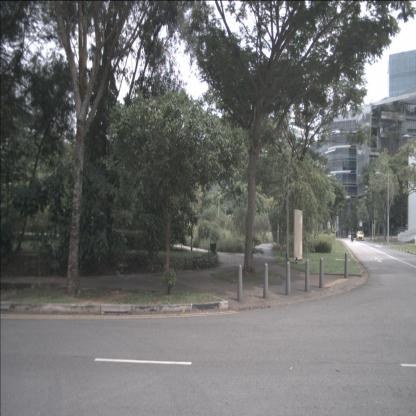vehicle-car: (356, 231, 364, 241)
vehicle-motorcycle: (350, 228, 354, 243)
